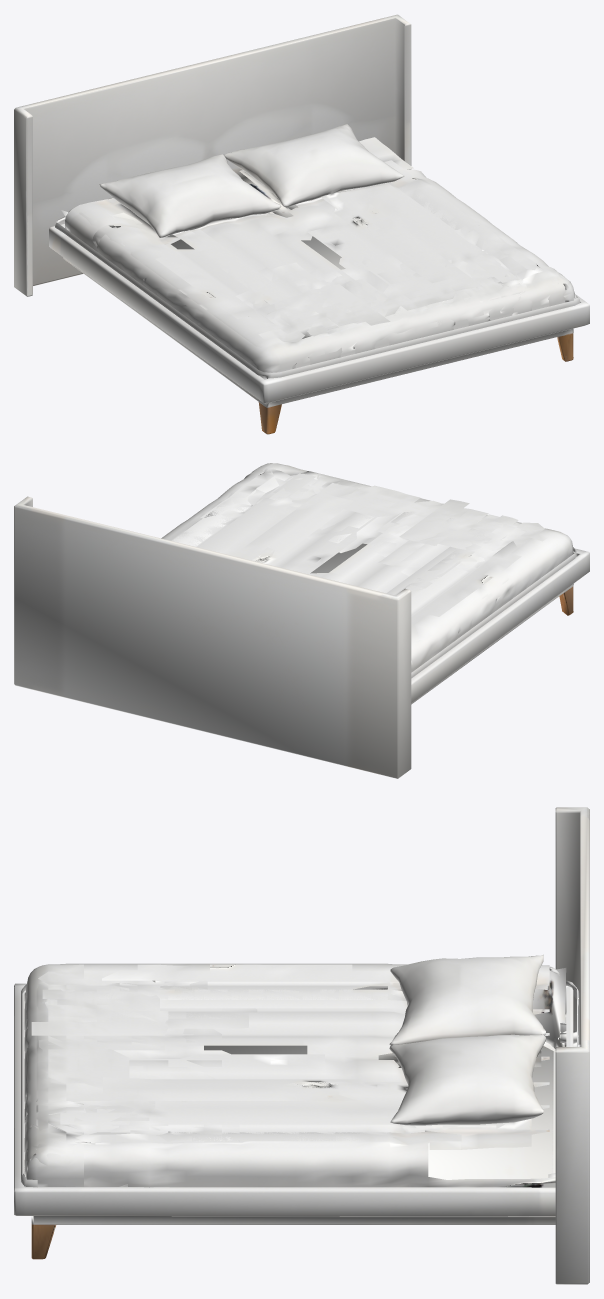
Rendered from Meshy_AI_A_stylized_low_poly_b_0428230758_texture.fbx.
The picture shows the model from 3 angles, top to bottom: view 1: azimuth 30°, elevation 25°; view 2: azimuth 150°, elevation 25°; view 3: azimuth 270°, elevation 25°; orthographic projection. The views are drawn at different scales.
Parts seen in each view (by area): view 1: Mesh_0; view 2: Mesh_0; view 3: Mesh_0.
Boxes of the visible parts, left/top/right/bottom form: Mesh_0: left=14, top=14, right=589, bottom=434; Mesh_0: left=14, top=463, right=589, bottom=778; Mesh_0: left=14, top=807, right=589, bottom=1284.
Size of the model in its own units: 191 by 85.32 by 190.
1 material, 1 textured.
